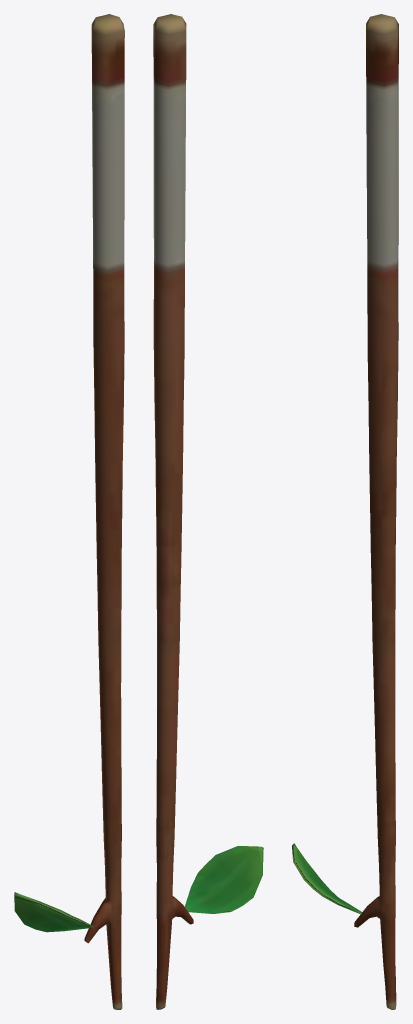
The model's file is rod.glb.
The picture shows the model from 3 angles, left to right: view 1: azimuth 30°, elevation 25°; view 2: azimuth 210°, elevation 25°; view 3: azimuth 330°, elevation 25°; orthographic projection.
Size of the model in its own units: 1.99 by 17.52 by 0.8767.
1 material, 1 textured.
